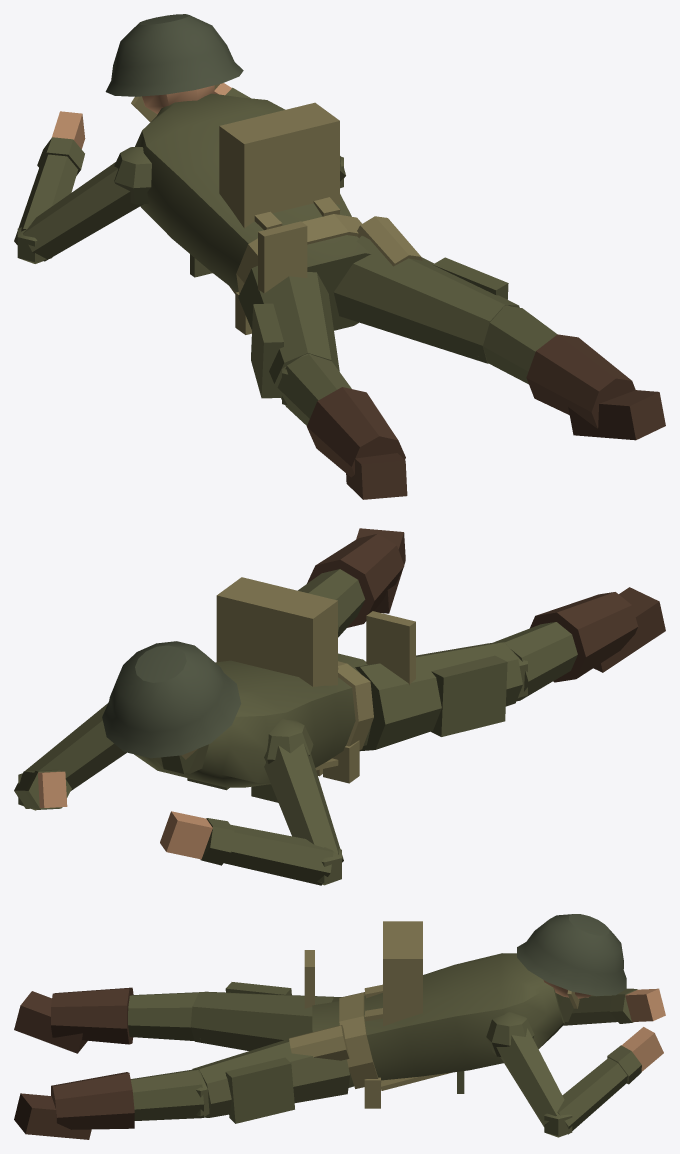
The model's file is soldier_us_prone_mg.glb.
3 renders of one model, top to bottom at view 1: azimuth 30°, elevation 25°; view 2: azimuth 150°, elevation 25°; view 3: azimuth 270°, elevation 25°, orthographic. The views are drawn at different scales.
Parts seen in each view (by area): view 1: soldier_us_prone_mg; view 2: soldier_us_prone_mg; view 3: soldier_us_prone_mg.
Part boxes in pixels (x1,y1,x2,y2): soldier_us_prone_mg: (14,14,665,499); soldier_us_prone_mg: (14,528,665,885); soldier_us_prone_mg: (14,914,665,1139).
Bounding box in the file's own units: 0.8116 × 0.5106 × 1.76.
